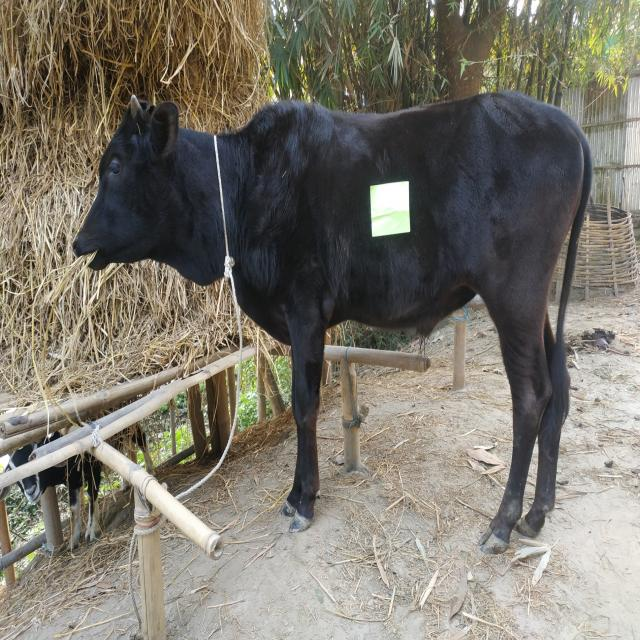badan_sapi: (282, 114, 545, 326)
sapi: (61, 91, 596, 561)
